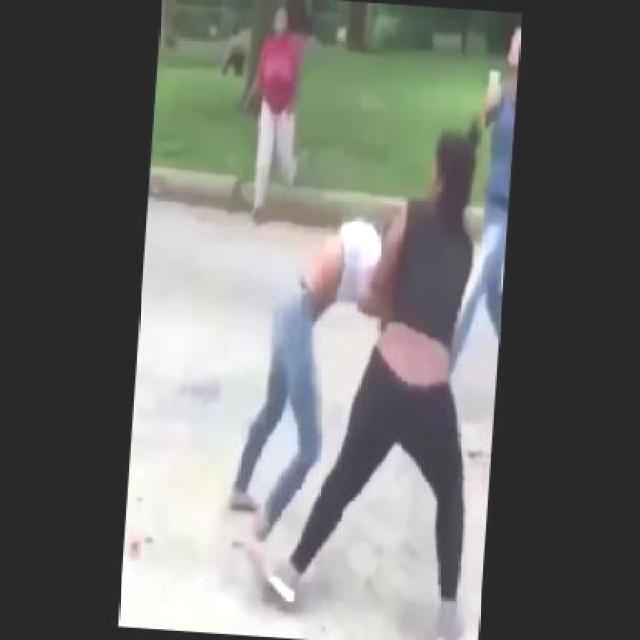fight: (248, 121, 496, 638)
